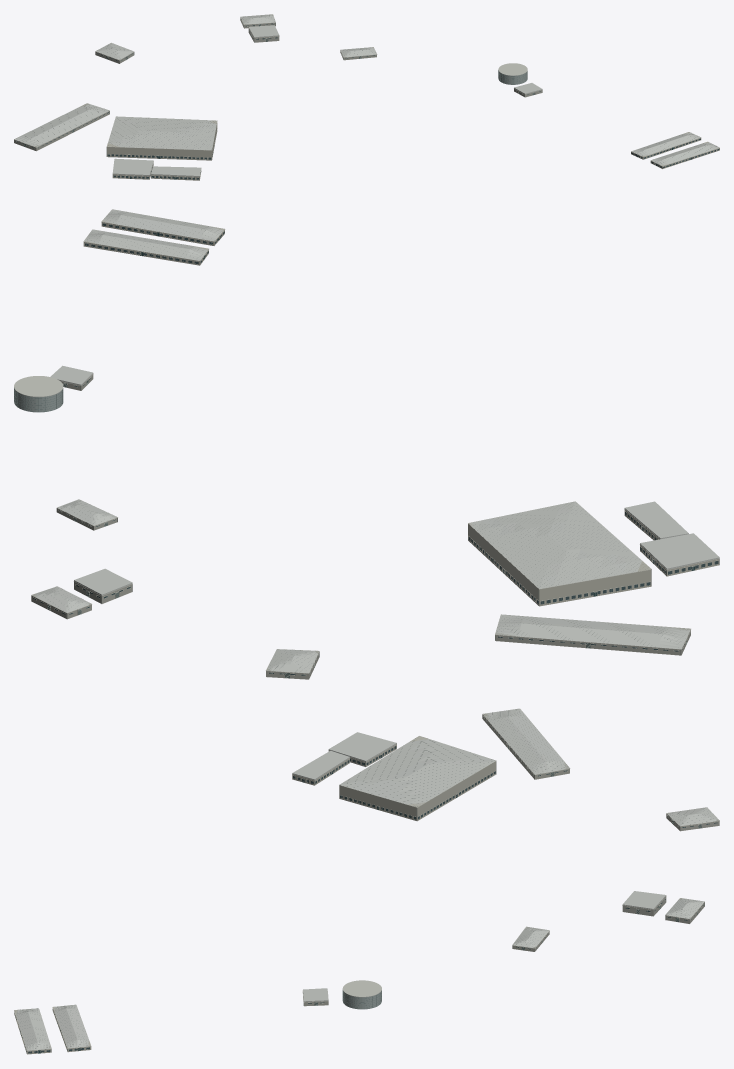
Rendered from UMPSA-Pekan-south.glb.
3 renders of one model, top to bottom at view 1: azimuth 30°, elevation 25°; view 2: azimuth 150°, elevation 25°; view 3: azimuth 270°, elevation 25°, orthographic. The views are drawn at different scales.
Visible parts, largest first — view 1: Kompleks Sukan UMPSA Pekan - indoor hall - campus exterior, Southern campus training workshops - campus exterior, Southern campus residences - north row - campus exterior, Southern campus residences - south row - campus exterior, Sports complex - west facilities - campus exterior, Sports complex - pool facilities - campus exterior, Campus water storage tank - campus exterior, Southern research laboratory A - campus exterior, Southern research laboratory C - campus exterior, Southern research laboratory B - campus exterior, Southern research laboratory D - campus exterior, Campus water pump house - campus exterior; view 2: Kompleks Sukan UMPSA Pekan - indoor hall - campus exterior, Southern campus training workshops - campus exterior, Southern campus residences - south row - campus exterior, Southern campus residences - north row - campus exterior, Sports complex - west facilities - campus exterior, Campus water storage tank - campus exterior, Sports complex - pool facilities - campus exterior, Southern research laboratory C - campus exterior, Southern research laboratory A - campus exterior, Southern research laboratory B - campus exterior, Southern research laboratory D - campus exterior; view 3: Kompleks Sukan UMPSA Pekan - indoor hall - campus exterior, Southern campus training workshops - campus exterior, Sports complex - west facilities - campus exterior, Southern campus residences - south row - campus exterior, Southern campus residences - north row - campus exterior, Sports complex - pool facilities - campus exterior, Campus water storage tank - campus exterior, Southern research laboratory A - campus exterior, Southern research laboratory C - campus exterior, Southern research laboratory B - campus exterior, Southern research laboratory D - campus exterior.
Part boxes in pixels (x1,y1,x2,y2): Kompleks Sukan UMPSA Pekan - indoor hall - campus exterior: [106, 116, 217, 160]; Southern campus training workshops - campus exterior: [14, 103, 109, 151]; Southern campus residences - north row - campus exterior: [631, 132, 701, 159]; Southern campus residences - south row - campus exterior: [650, 141, 719, 168]; Sports complex - west facilities - campus exterior: [112, 158, 153, 179]; Sports complex - pool facilities - campus exterior: [151, 166, 201, 180]; Campus water storage tank - campus exterior: [498, 63, 527, 84]; Southern research laboratory A - campus exterior: [95, 42, 134, 63]; Southern research laboratory C - campus exterior: [248, 25, 279, 42]; Southern research laboratory B - campus exterior: [240, 14, 275, 28]; Southern research laboratory D - campus exterior: [340, 47, 377, 60]; Campus water pump house - campus exterior: [514, 83, 542, 97]; Kompleks Sukan UMPSA Pekan - indoor hall - campus exterior: [468, 501, 651, 606]; Southern campus training workshops - campus exterior: [495, 614, 690, 655]; Southern campus residences - south row - campus exterior: [101, 209, 225, 245]; Southern campus residences - north row - campus exterior: [83, 229, 208, 265]; Sports complex - west facilities - campus exterior: [640, 533, 719, 576]; Campus water storage tank - campus exterior: [14, 376, 63, 412]; Sports complex - pool facilities - campus exterior: [624, 501, 688, 540]; Southern research laboratory C - campus exterior: [74, 568, 132, 603]; Southern research laboratory A - campus exterior: [266, 649, 319, 679]; Southern research laboratory B - campus exterior: [31, 586, 91, 619]; Southern research laboratory D - campus exterior: [56, 499, 117, 530]; Kompleks Sukan UMPSA Pekan - indoor hall - campus exterior: [339, 736, 496, 821]; Southern campus training workshops - campus exterior: [482, 708, 570, 779]; Sports complex - west facilities - campus exterior: [328, 732, 396, 766]; Southern campus residences - south row - campus exterior: [14, 1008, 51, 1054]; Southern campus residences - north row - campus exterior: [52, 1004, 91, 1052]; Sports complex - pool facilities - campus exterior: [292, 750, 349, 785]; Campus water storage tank - campus exterior: [342, 980, 381, 1009]; Southern research laboratory A - campus exterior: [666, 807, 719, 831]; Southern research laboratory C - campus exterior: [622, 891, 666, 916]; Southern research laboratory B - campus exterior: [665, 898, 704, 923]; Southern research laboratory D - campus exterior: [512, 926, 549, 951].
Size of the model in its own units: 583 by 13 by 510.
